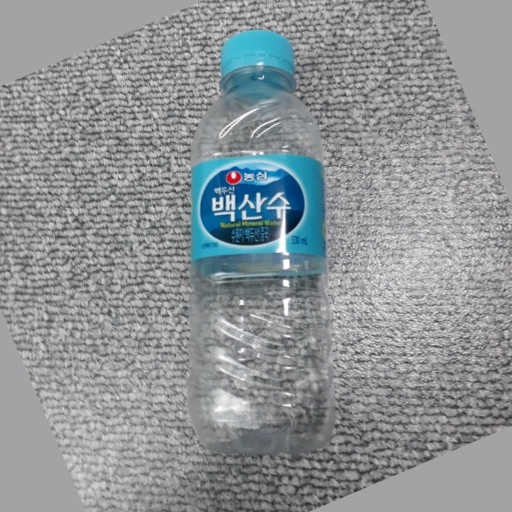Plastic_0: (188, 30, 328, 450)
